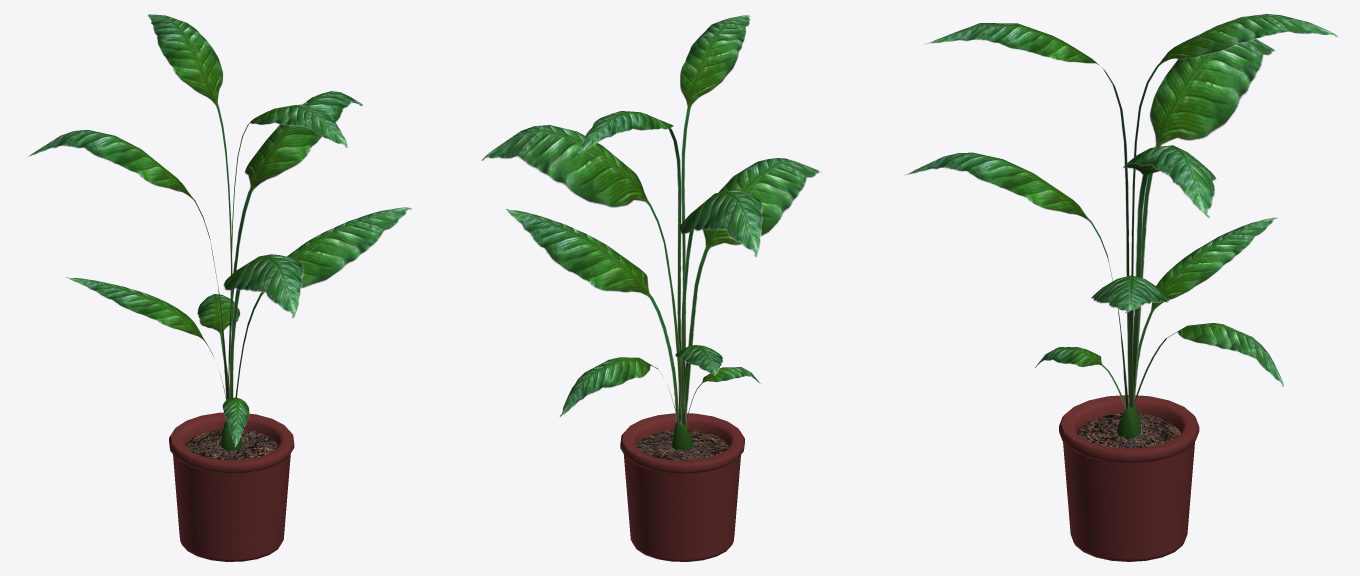
3 views of the same model, side by side, from view 1: azimuth 30°, elevation 25°; view 2: azimuth 150°, elevation 25°; view 3: azimuth 270°, elevation 25° (orthographic). The views are drawn at different scales.
Parts seen in each view (by area): view 1: Potted_Plant; view 2: Potted_Plant; view 3: Potted_Plant.
Boxes of the visible parts, <box> form: Potted_Plant: <box>28,14,411,561</box>; Potted_Plant: <box>481,15,821,561</box>; Potted_Plant: <box>904,14,1338,561</box>.
Size of the model in its own units: 7.89 by 10.01 by 7.89.
Materials: 4 (4 with a texture image).
